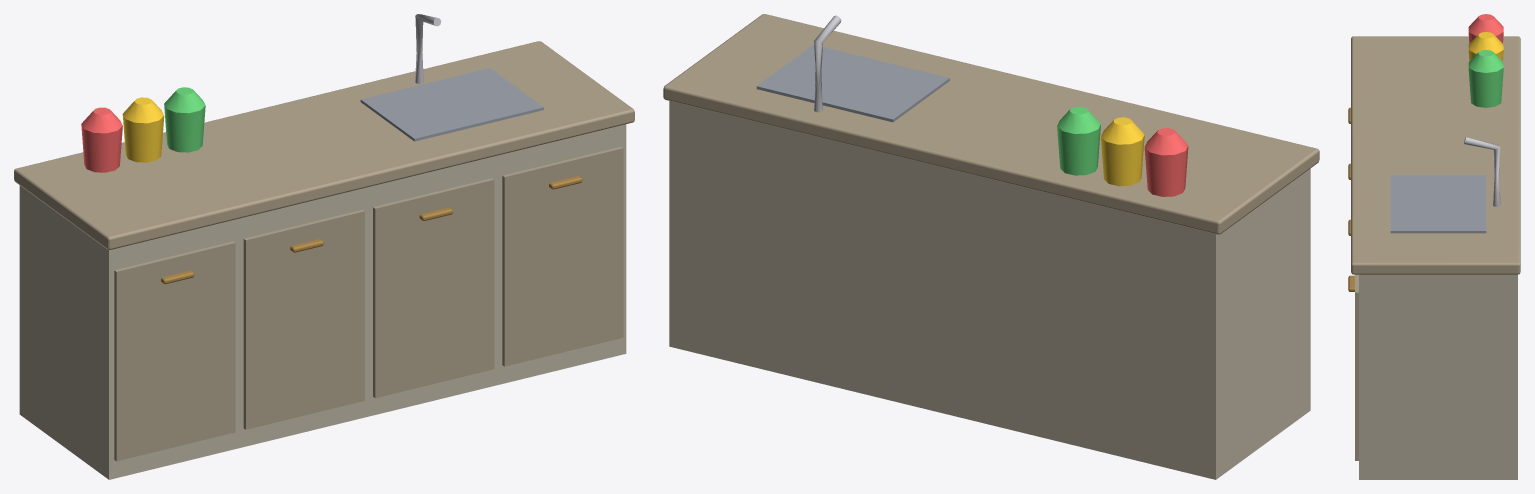
Rendered from kitchen_counter.glb.
The picture shows the model from 3 angles, left to right: view 1: azimuth 30°, elevation 25°; view 2: azimuth 150°, elevation 25°; view 3: azimuth 270°, elevation 25°; orthographic projection. The views are drawn at different scales.
Visible parts, largest first — view 1: main; view 2: main; view 3: main.
Part boxes in pixels (box(x1,y1,x2,y2)): main: box(14, 14, 634, 479); main: box(663, 14, 1319, 479); main: box(1348, 14, 1520, 479).
Size of the model in its own units: 2.04 by 1.19 by 0.65.
